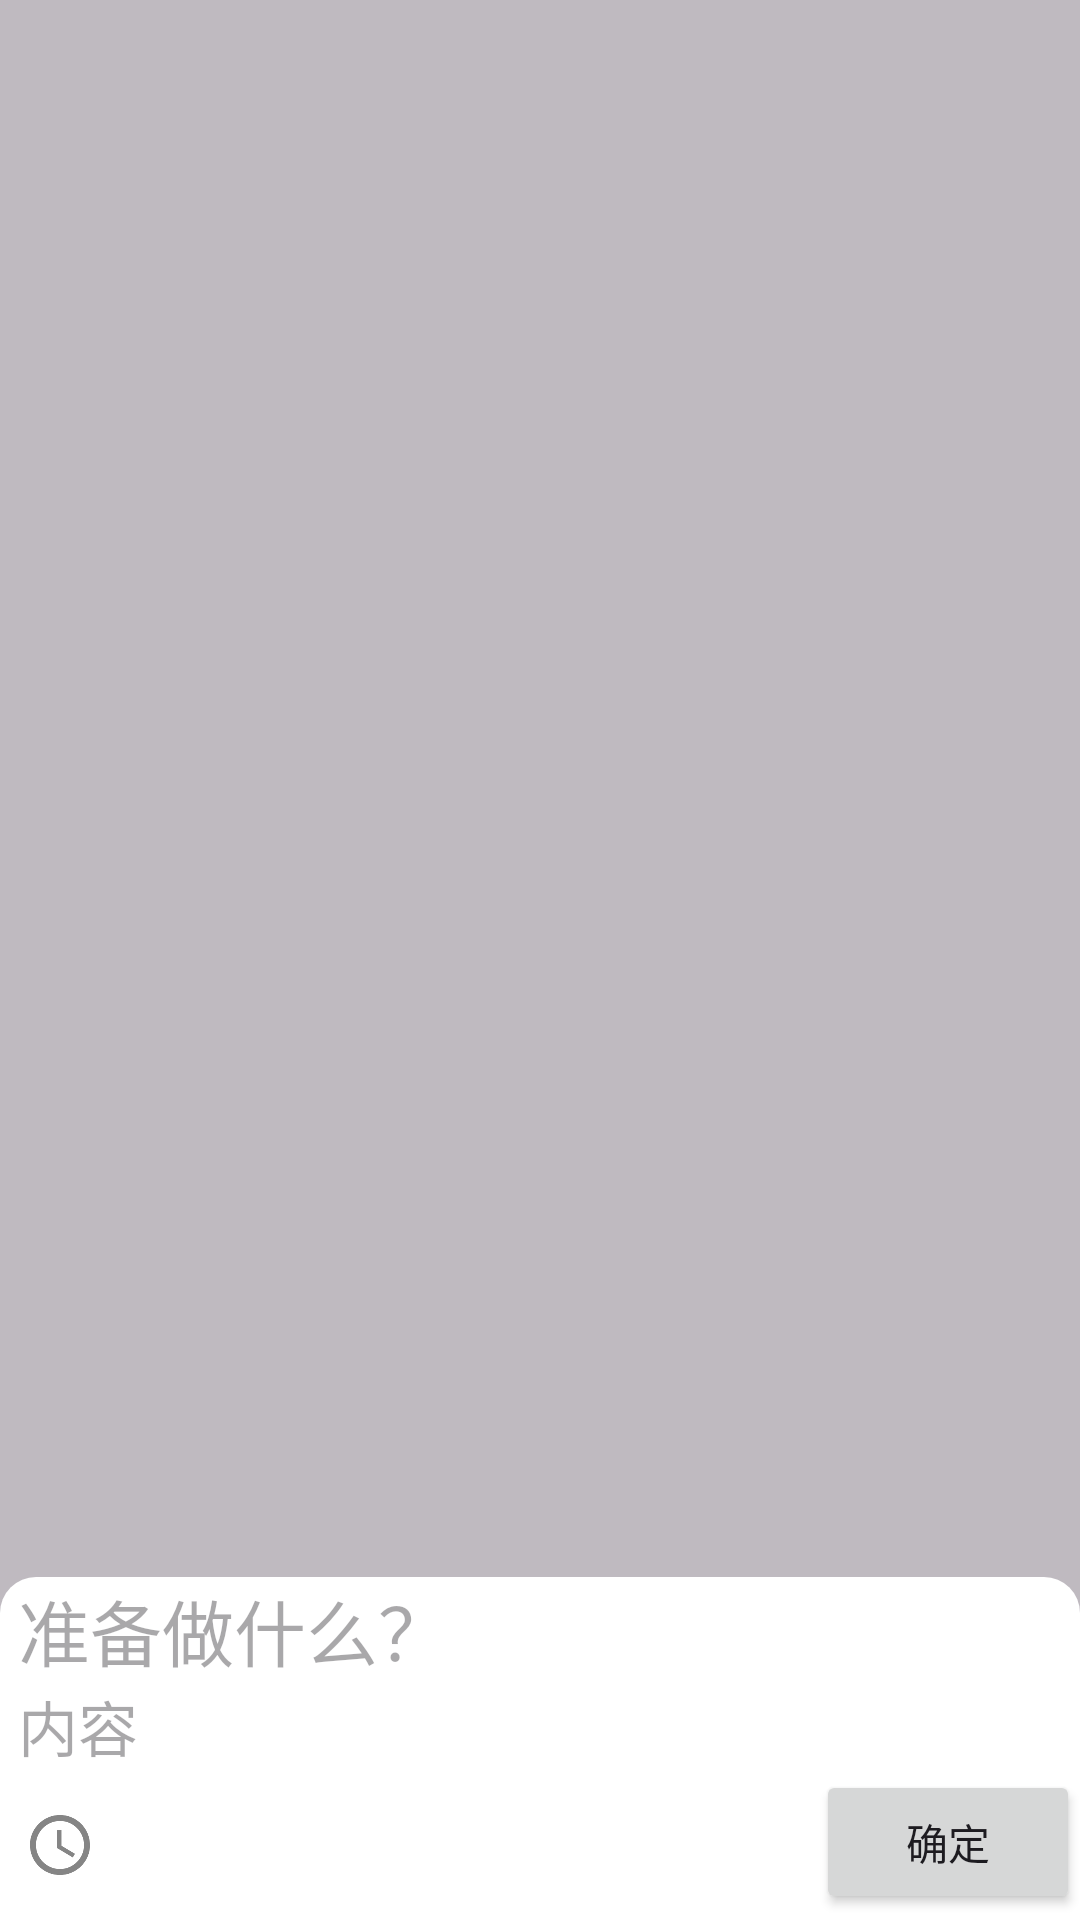

Named icons in this screenshot (1080x1920) and their bounding boxes, {"left": x1, "top": y1, "right": x2, "bottom": y2}:
time select: {"left": 30, "top": 1815, "right": 90, "bottom": 1875}
